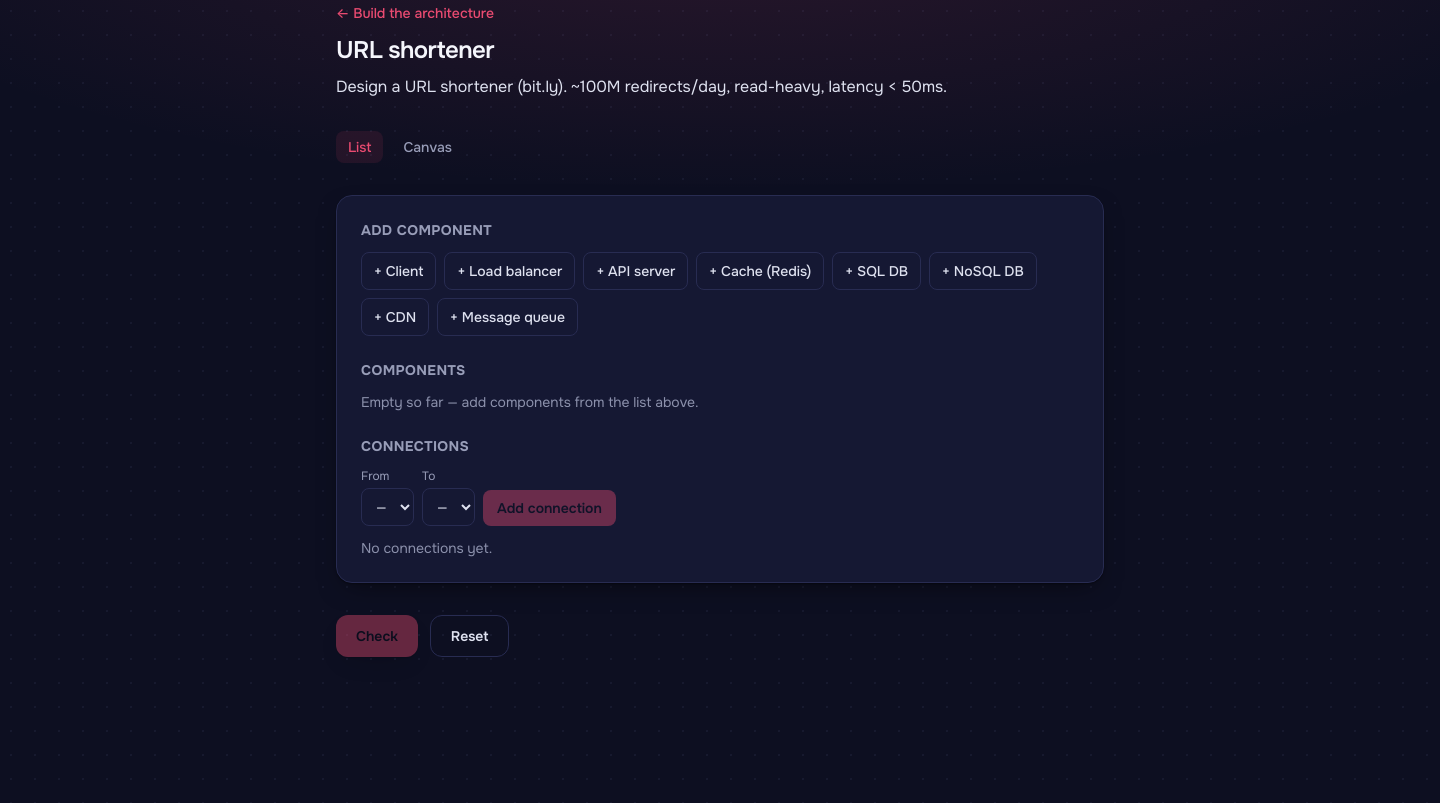
Scenario: Diagram screen › marks a scenario missing a required node as having issues
The width and height of the screenshot is (1440, 803).
What coordinates should you click on to do the following:
click the button "+ Client"
I would click on:
 (399, 271)
Its box is [361,252,436,290].
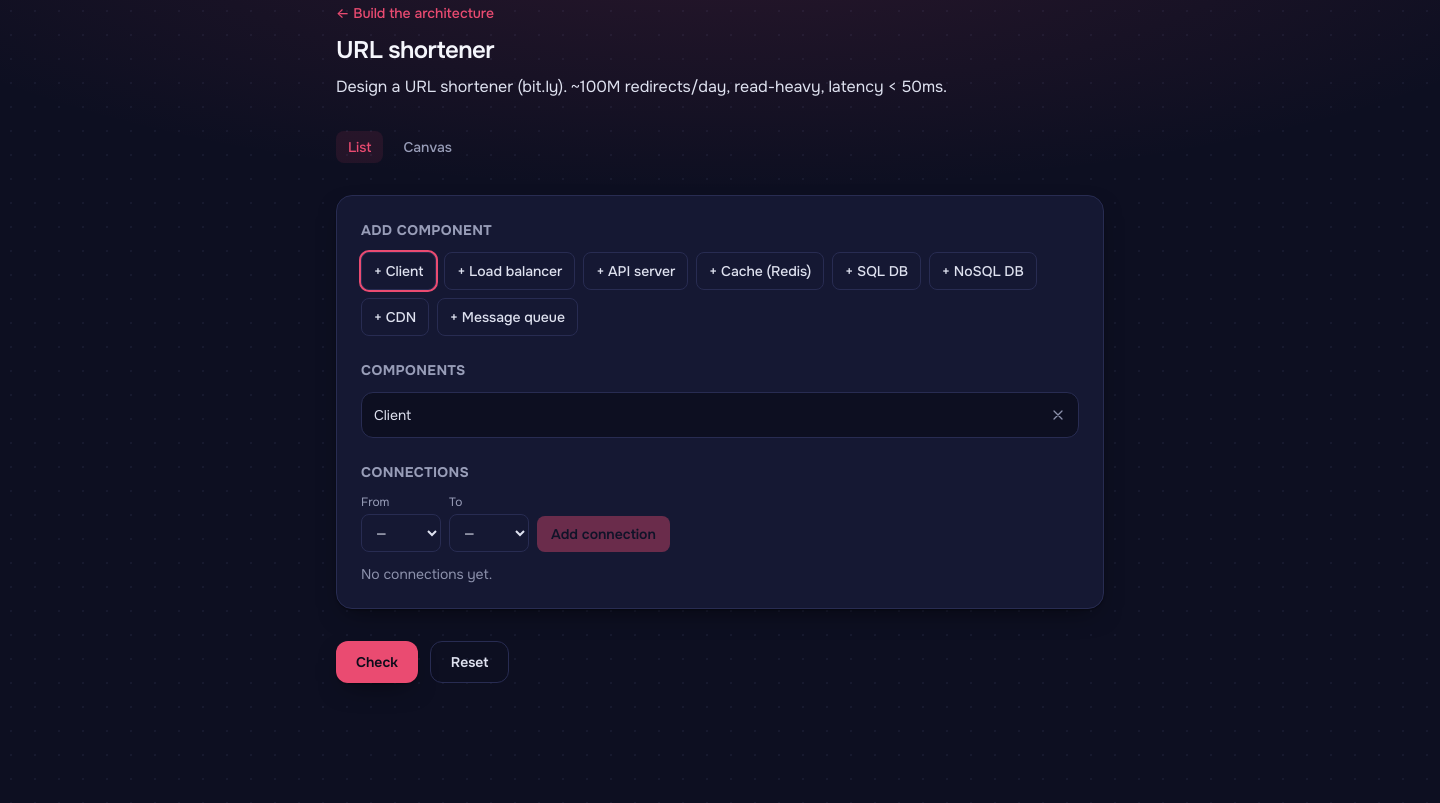
What coordinates should you click on to do the following:
click the button "Check"
I would click on:
 (377, 662)
Its box is [336,641,418,683].
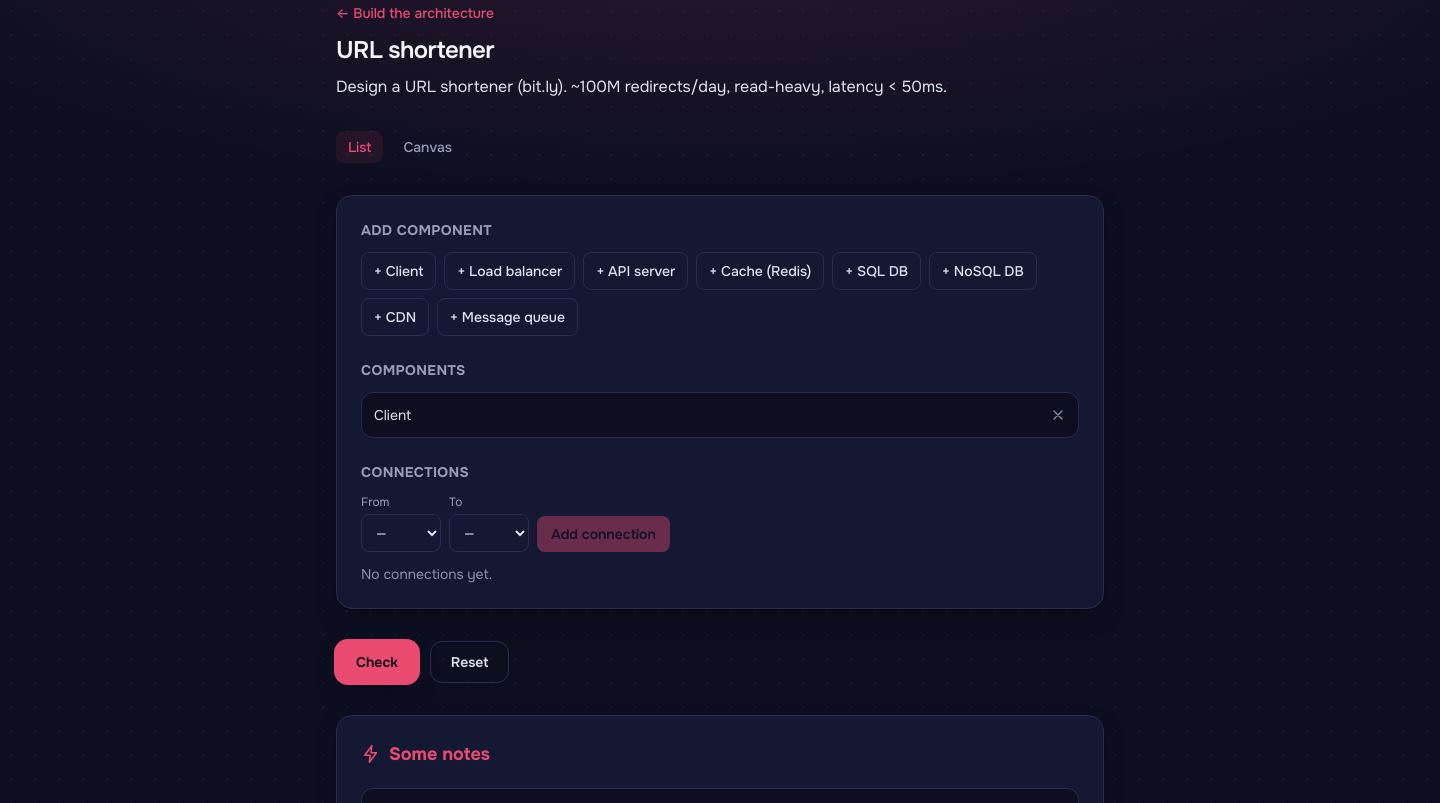
Check: the heading "Some notes" is shown, box [361,743,490,765]
